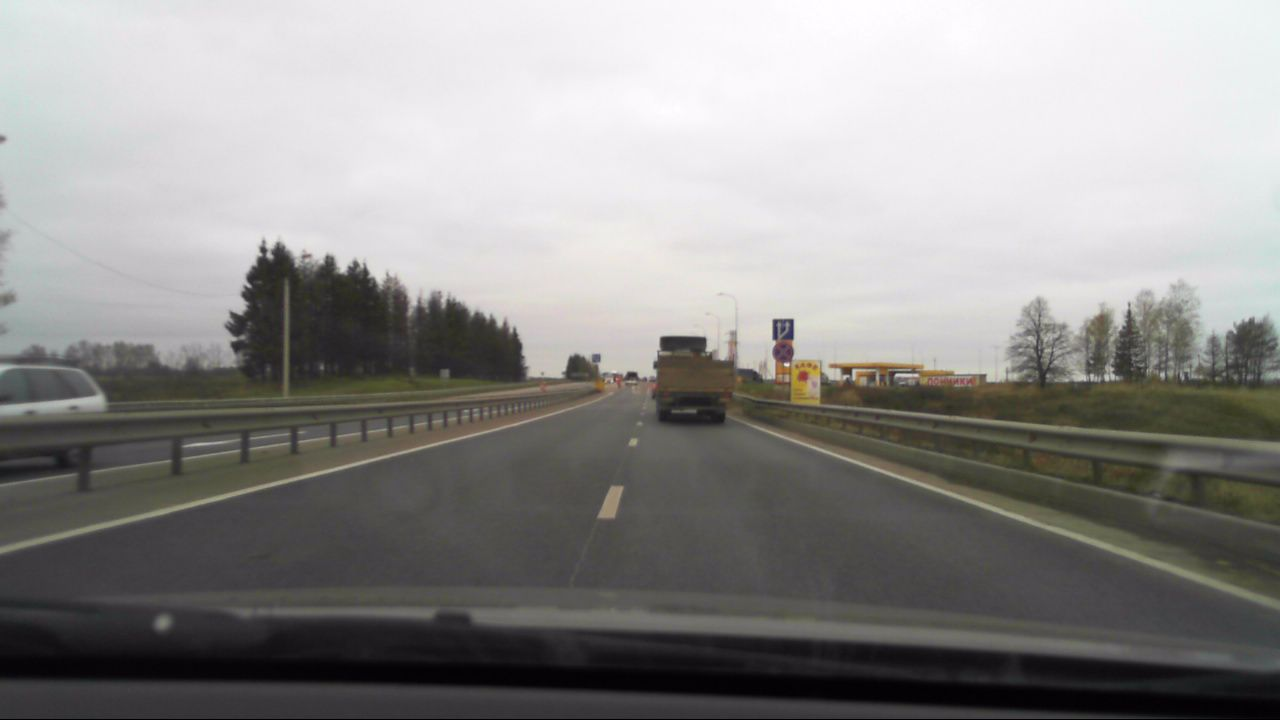No Parking: (770, 340, 795, 363)
